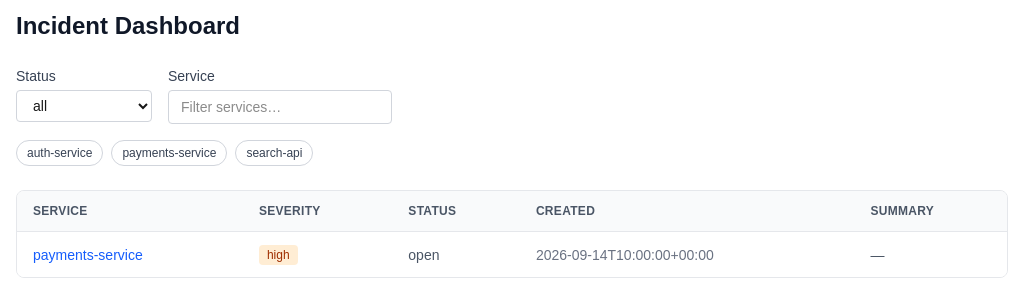
Test case: service typeahead › says no services match instead of showing an empty table
This screenshot has width=1025, height=295.
Expected: the button "payments-service" is shown, 111,140 -> 227,166
Expected: the table is shown, 17,191 -> 1007,277
Type "zzz" into the field labelled "Service". click: (280, 107)
box: 168,90 -> 392,124
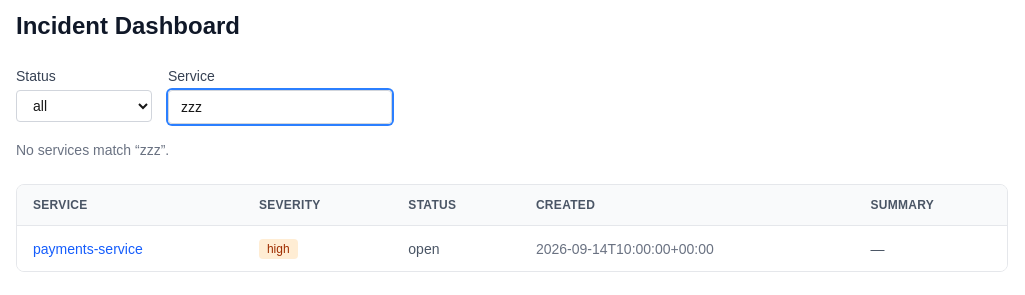
Expected: the number of rows is 2, 17,185 -> 1007,226; 17,226 -> 1007,271
Expected: the text "No services match “zzz”." is shown, 16,142 -> 169,158
Expected: no buttons are shown
